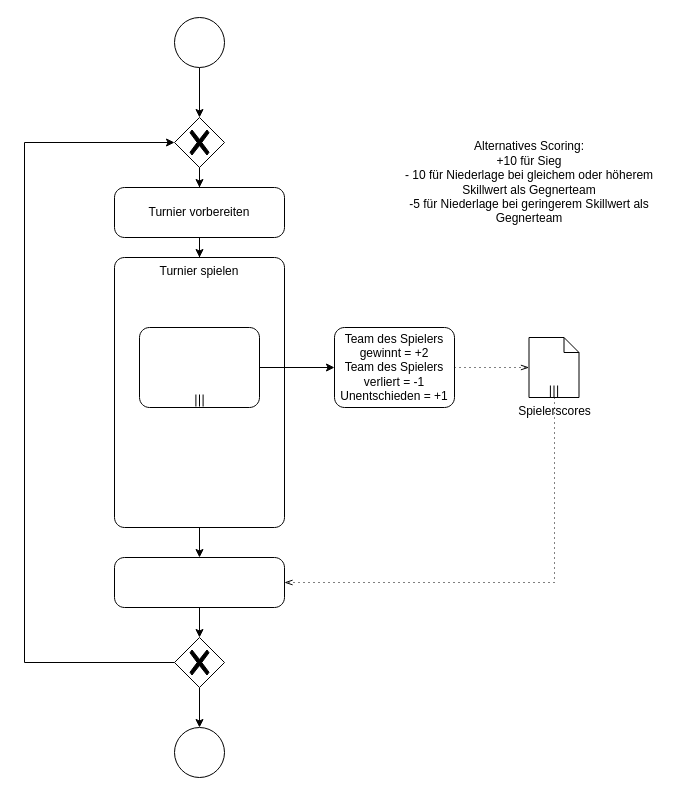
Image size: 691x795. Some labels were removed from this diagram. The box of each missing label's shape, as (x1, y1, x2, y2) in pixels:
Gesamtranking: (114, 556, 284, 608)
Paarungen spielen: (138, 326, 260, 408)
